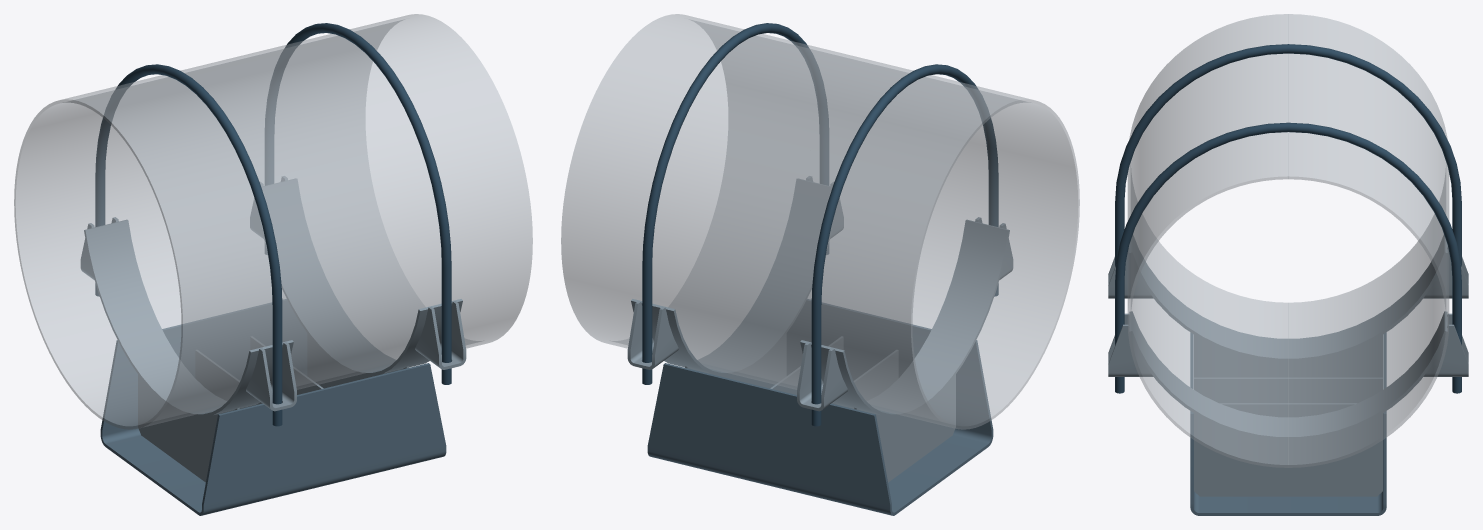
The model's file is TS-626.00.000-113-opora-dn820-H200-L680.glb.
The picture shows the model from 3 angles, left to right: view 1: azimuth 30°, elevation 25°; view 2: azimuth 150°, elevation 25°; view 3: azimuth 270°, elevation 25°; orthographic projection. The views are drawn at different scales.
Visible parts, largest first — view 1: truba, skoba_0, podushka_5, podushka_6, homut_0, homut_1, rebro4_1, ushko_10, ushko_8, rebro4_2, rebro5_3; view 2: truba, skoba_0, podushka_5, podushka_6, homut_0, homut_1, rebro4_1, ushko_9, ushko_7, rebro4_2, rebro5_3; view 3: truba, rebro4_2, podushka_6, podushka_5, homut_1, homut_0, skoba_0, rebro4_1, rebro5_3, ushko_9, ushko_10, rebro5_4 (+2 smaller).
Part boxes in pixels (left/top/right/bottom): truba: left=14, top=14, right=532, bottom=429; skoba_0: left=100, top=299, right=446, bottom=515; podushka_5: left=84, top=219, right=293, bottom=417; podushka_6: left=256, top=179, right=462, bottom=376; homut_0: left=95, top=64, right=282, bottom=426; homut_1: left=265, top=23, right=451, bottom=384; rebro4_1: left=138, top=375, right=239, bottom=482; ushko_10: left=415, top=301, right=466, bottom=369; ushko_8: left=246, top=342, right=296, bottom=411; rebro4_2: left=307, top=334, right=408, bottom=388; rebro5_3: left=195, top=350, right=262, bottom=408; truba: left=561, top=14, right=1079, bottom=429; skoba_0: left=647, top=299, right=993, bottom=515; podushka_5: left=800, top=219, right=1009, bottom=417; podushka_6: left=631, top=179, right=837, bottom=376; homut_0: left=811, top=64, right=998, bottom=426; homut_1: left=642, top=23, right=828, bottom=384; rebro4_1: left=854, top=375, right=955, bottom=482; ushko_9: left=627, top=301, right=678, bottom=369; ushko_7: left=797, top=342, right=847, bottom=411; rebro4_2: left=685, top=334, right=786, bottom=388; rebro5_3: left=831, top=350, right=898, bottom=408; truba: left=1127, top=14, right=1449, bottom=467; rebro4_2: left=1194, top=413, right=1382, bottom=496; podushka_6: left=1129, top=311, right=1447, bottom=439; podushka_5: left=1129, top=236, right=1447, bottom=361; homut_1: left=1115, top=122, right=1461, bottom=393; homut_0: left=1115, top=44, right=1461, bottom=266; skoba_0: left=1190, top=332, right=1386, bottom=515; rebro4_1: left=1194, top=335, right=1382, bottom=377; rebro5_3: left=1194, top=377, right=1382, bottom=403; ushko_9: left=1423, top=313, right=1468, bottom=376; ushko_10: left=1108, top=313, right=1153, bottom=376; rebro5_4: left=1220, top=403, right=1356, bottom=417.
Size of the model in its own units: 980 by 1057 by 918.
